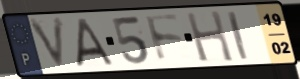5: (109, 14, 152, 66)
A: (76, 17, 116, 69)
F: (142, 14, 187, 66)
H: (183, 9, 237, 64)
I: (225, 9, 251, 62)
V: (25, 15, 68, 73)
